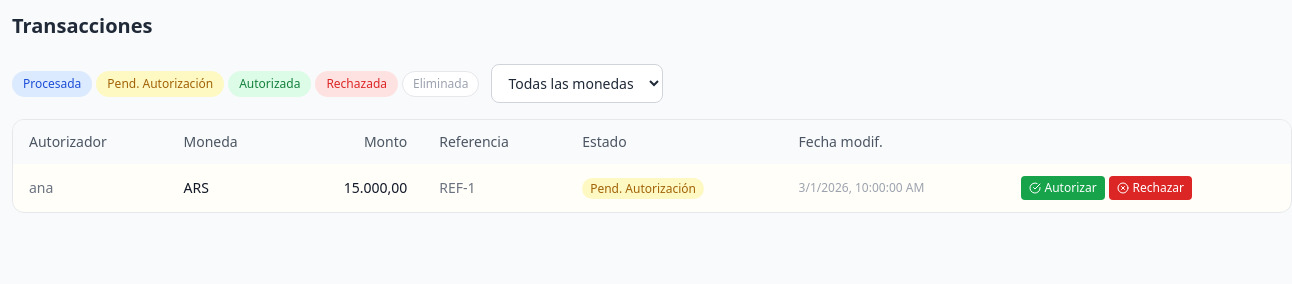
TransactionsPage — autorizar y rechazar › muestra el error de la API al autorizar
Click the button "Autorizar" at (1063, 188), box 1020,176 -> 1105,200
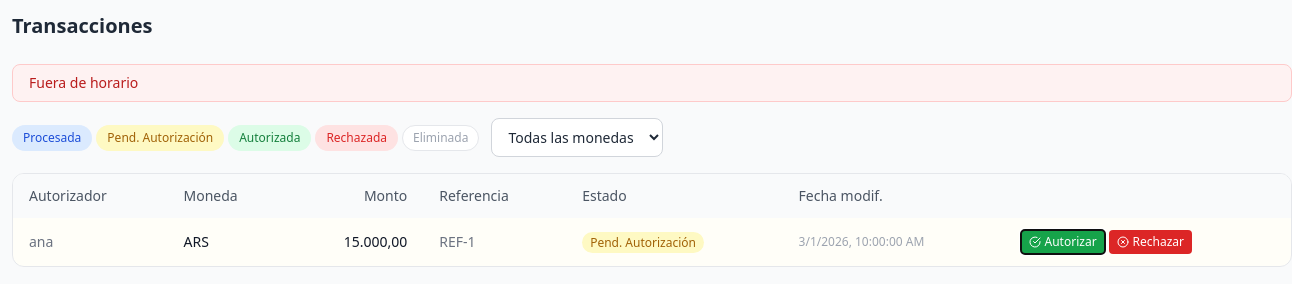
Result: the text "Fuera de horario" is shown at 12,64 -> 1291,102
